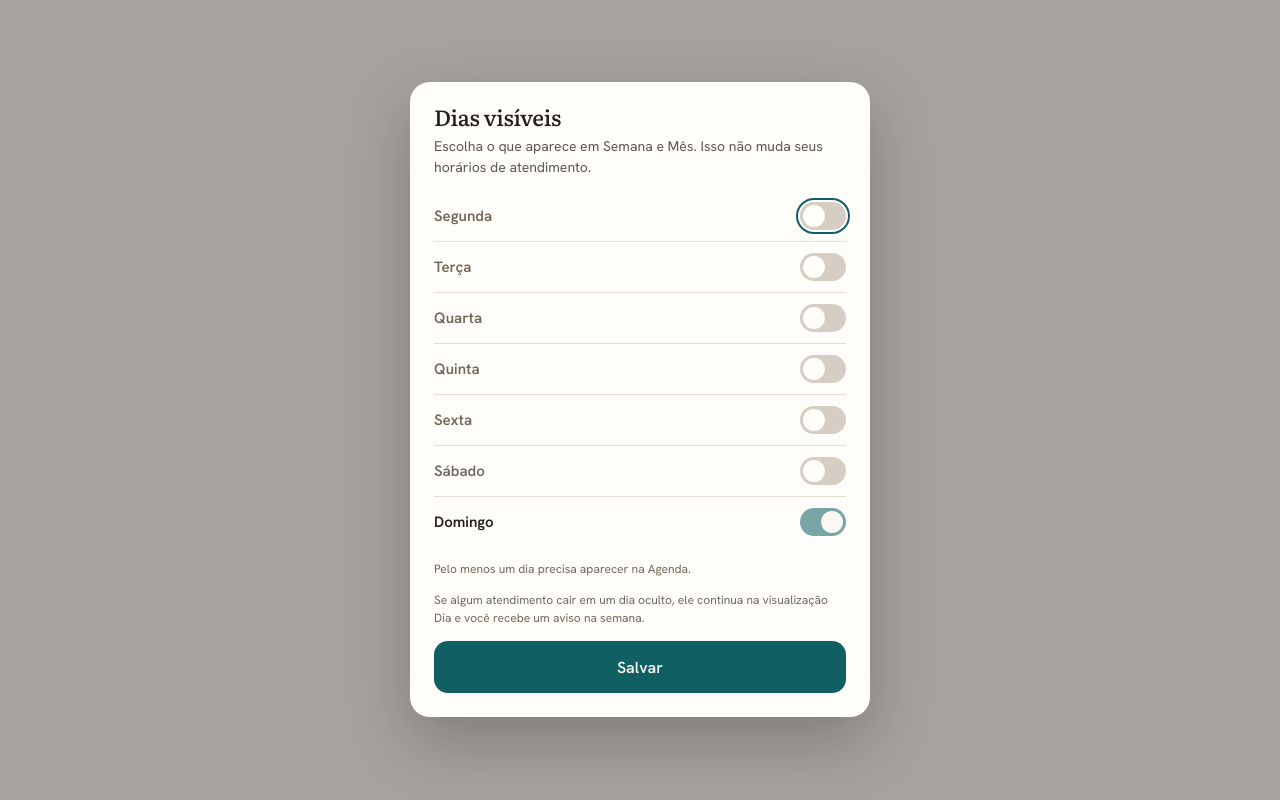
Scenario: Recusa do servidor pelo mesmo motivo › mostra a mesma frase, não a genérica
This screenshot has width=1280, height=800.
Click the button "Salvar": point(640, 668) [434,642,846,694]
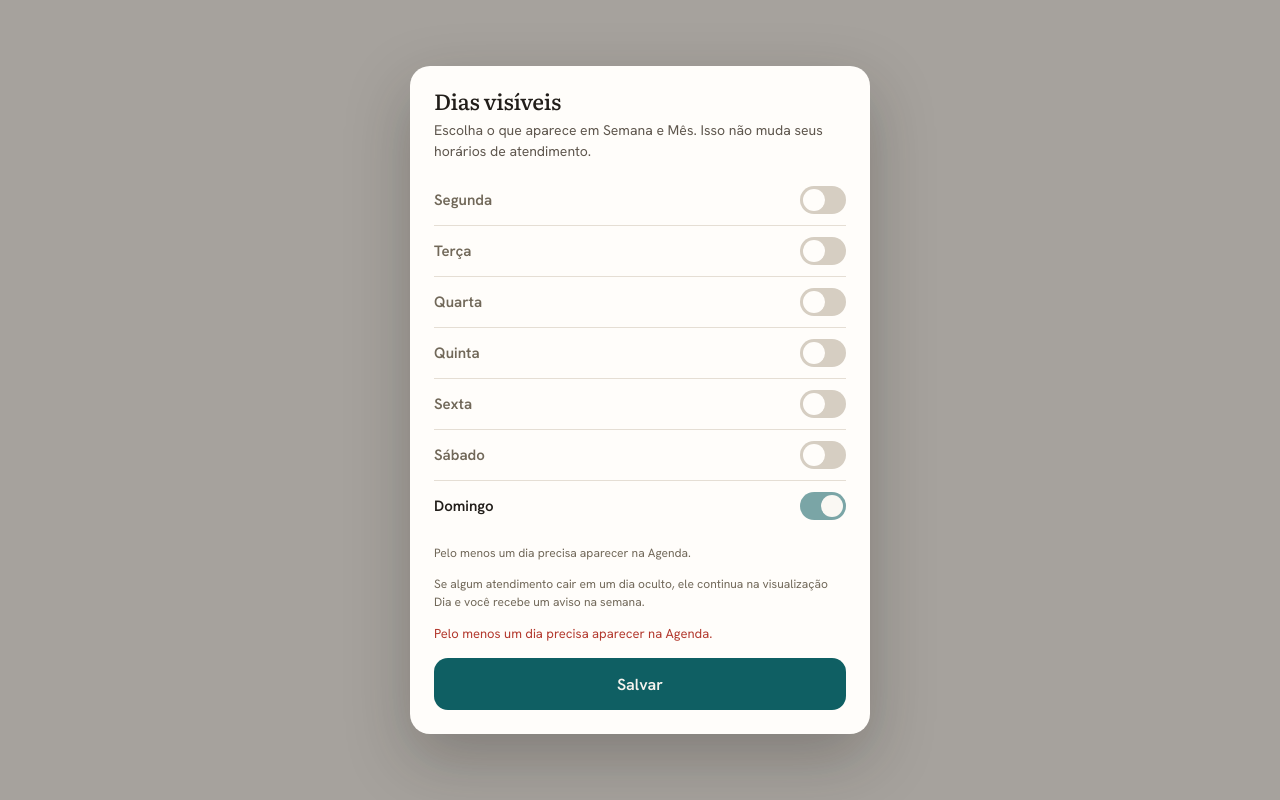
Expected: the message does not show "Não foi possível salvar", [434,625,712,642]
Expected: the message reads "Pelo menos um dia precisa aparecer na Agenda.", [434,625,712,642]
